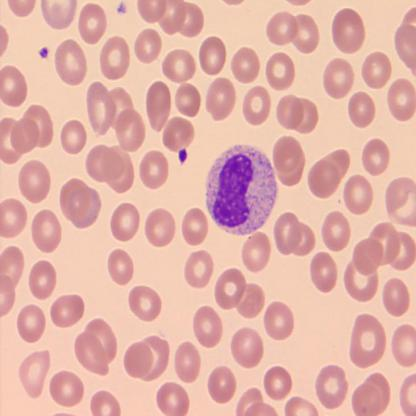Metamyelocyte: (204, 143, 278, 236)
